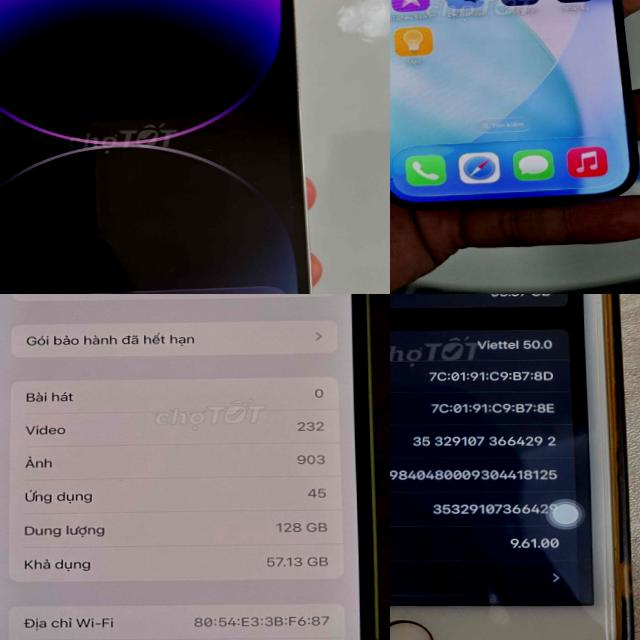gen_12_13: (0, 294, 390, 640)
gen_14: (0, 0, 333, 294)
gen_15: (390, 0, 640, 213)
gen_6: (390, 294, 630, 640)
